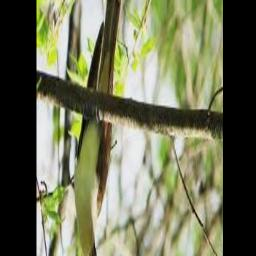Cuckoo: (74, 0, 125, 256)
